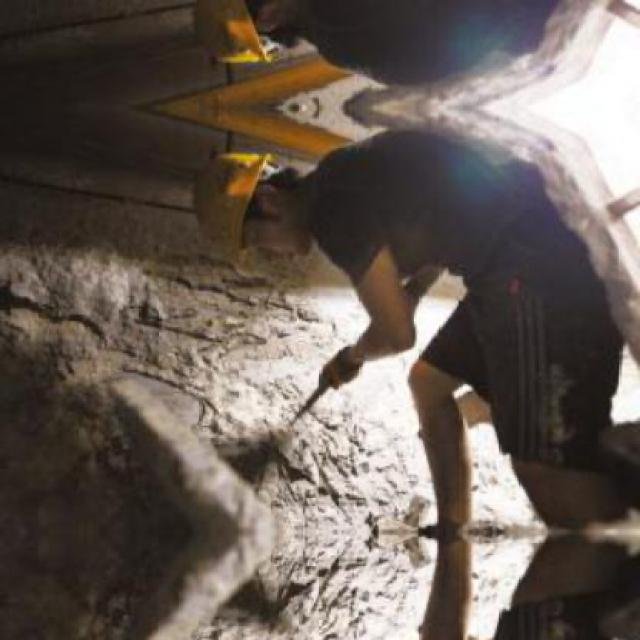2: (170, 134, 622, 531), (171, 535, 623, 639), (171, 0, 624, 83)
helmet: (197, 145, 321, 258), (197, 0, 323, 72)
